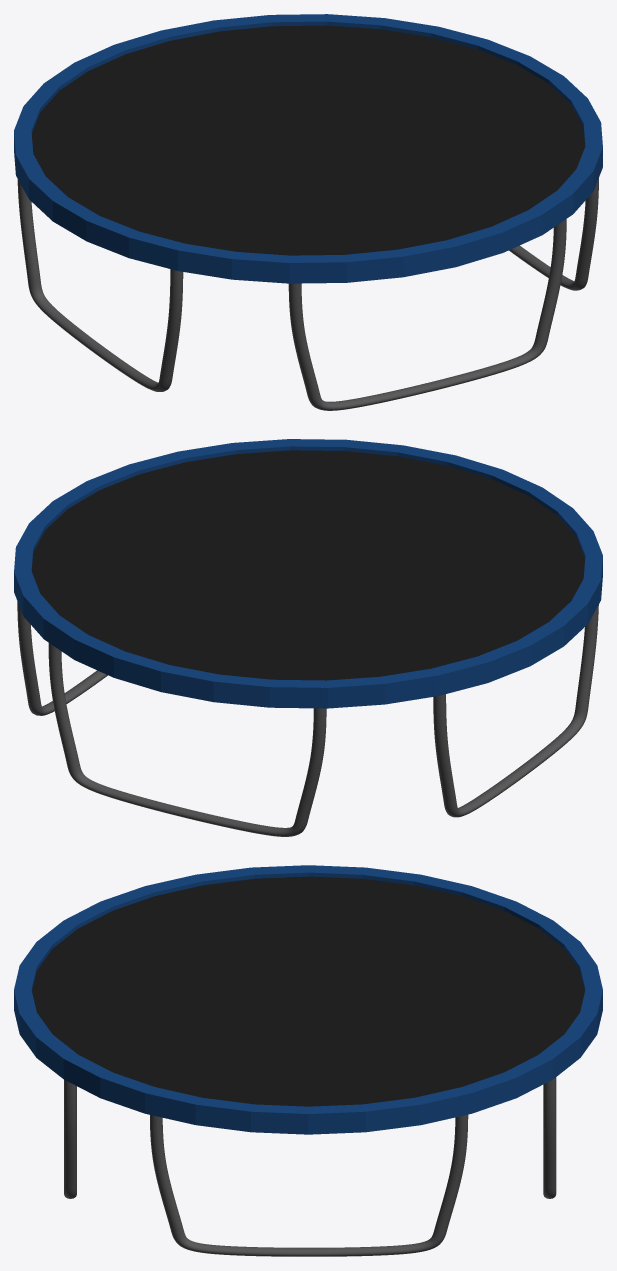
File: trampoline.fbx
3 renders of one model, top to bottom at view 1: azimuth 30°, elevation 25°; view 2: azimuth 150°, elevation 25°; view 3: azimuth 270°, elevation 25°, orthographic.
Parts seen in each view (by area): view 1: middle, legs; view 2: middle, legs; view 3: middle, legs.
Part boxes in pixels (x1,y1,x2,y2): middle: (31,25,585,255); legs: (14,14,602,410); middle: (31,450,585,680); legs: (14,439,602,836); middle: (32,876,584,1106); legs: (14,865,602,1256).
Size of the model in its own units: 200 by 61.83 by 200.
